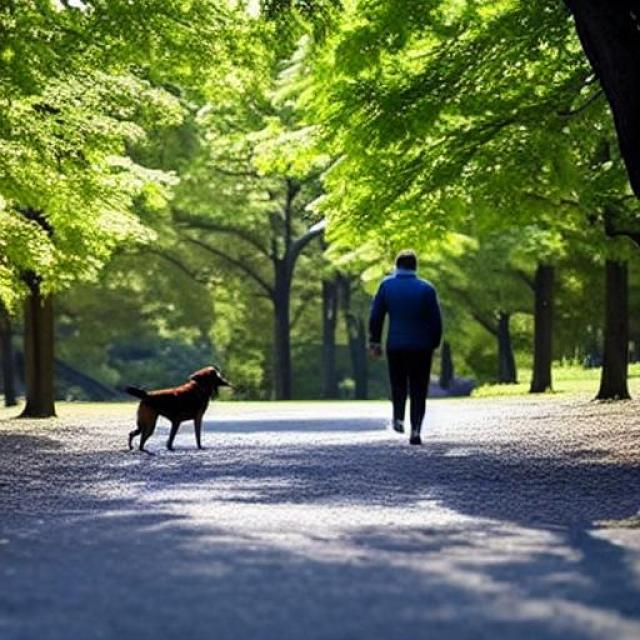Unleashed_Dog: (121, 335, 432, 453)
